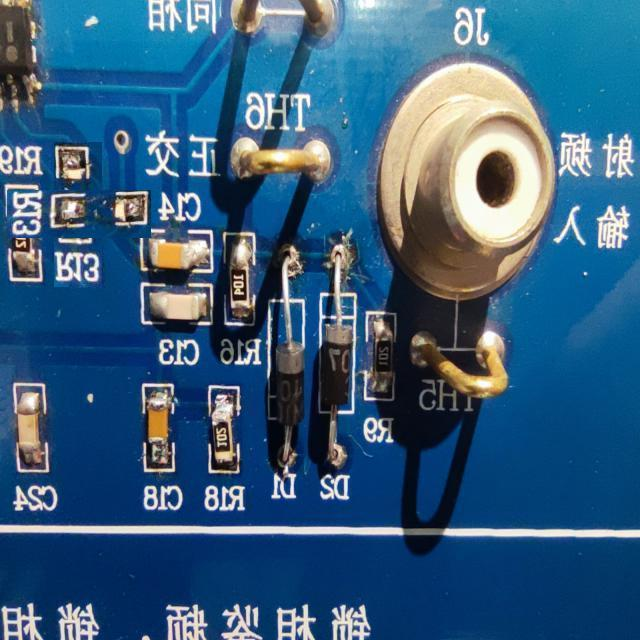miss_welding: (30, 166, 127, 263)
